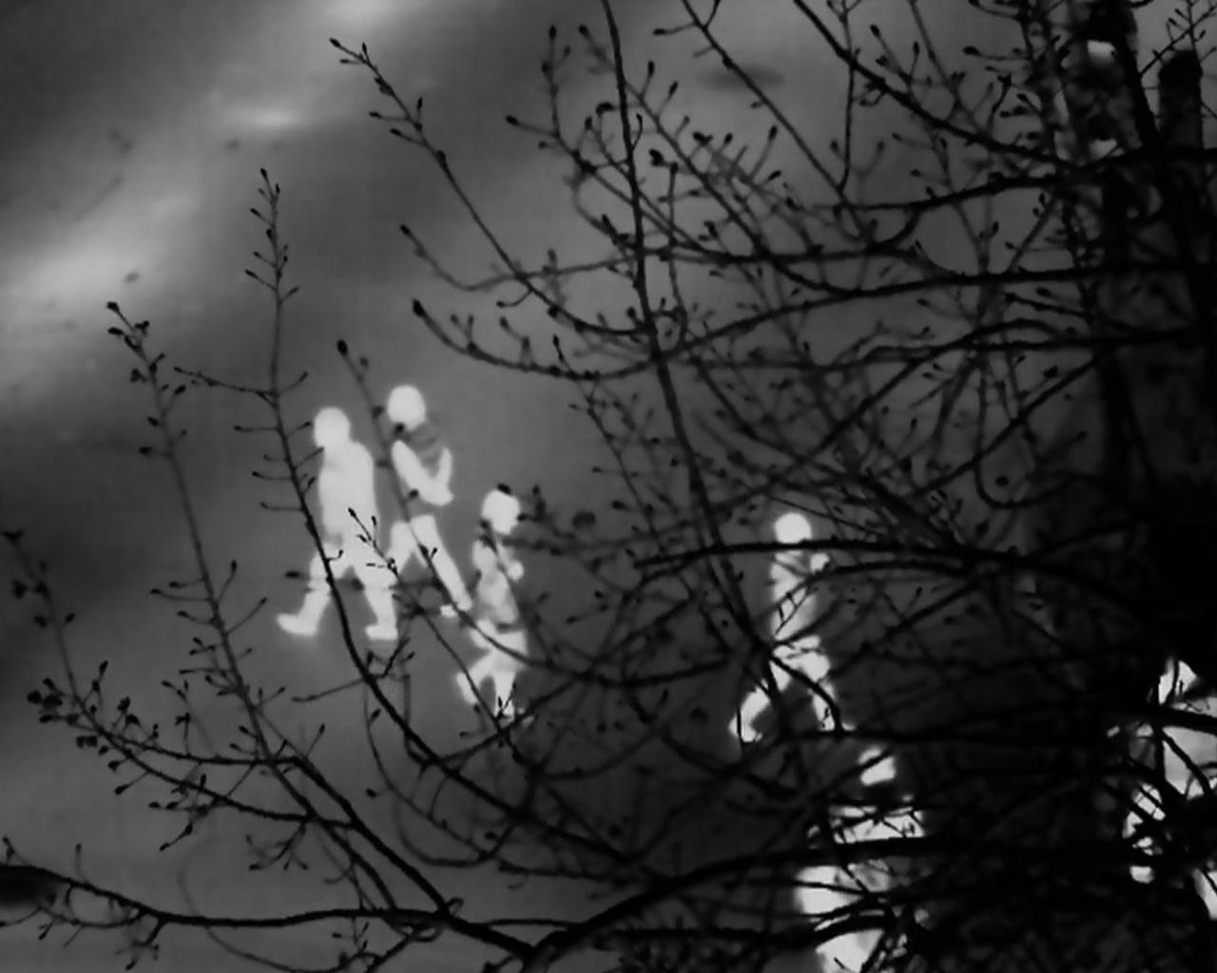person: (437, 487, 551, 720), (808, 745, 924, 973), (1115, 658, 1217, 896), (759, 506, 860, 736), (299, 411, 393, 649), (379, 383, 456, 594)
